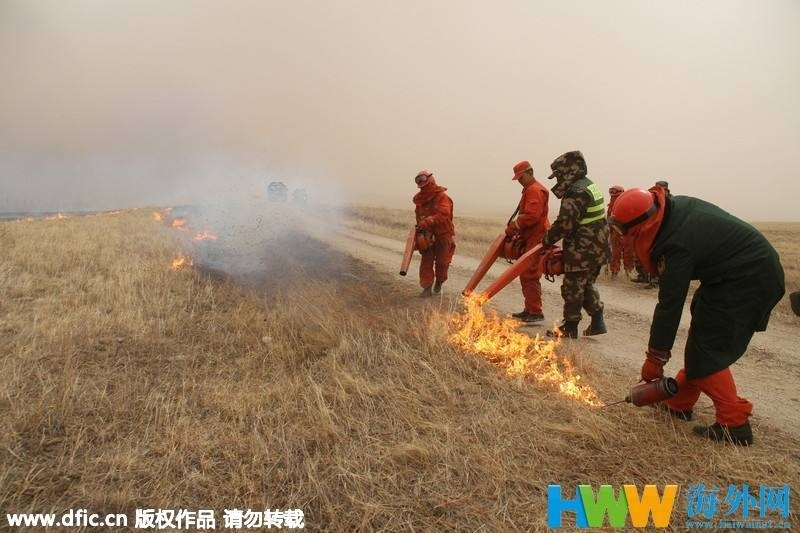fire: (440, 284, 607, 406), (147, 200, 219, 271)
